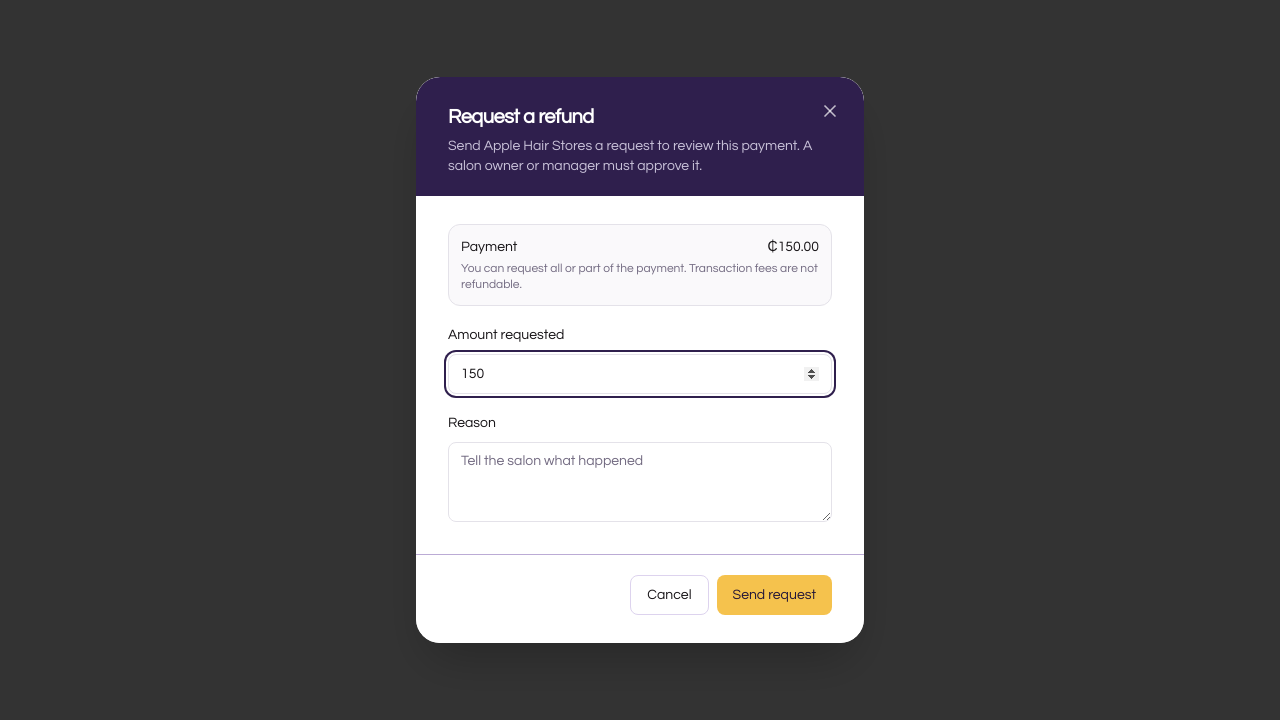
ClientRefundRequestDialog › lets a client request all or part of a payment without choosing the refund method
The image size is (1280, 720).
Expected: the heading "Request a refund" is shown, [448,107,594,127]
Expected: the text "salon owner or manager must approve" is shown, [448,139,812,173]
Replace the text in the number field labelled "Amount requested" with "75" at (640, 374), box [448,354,832,394]
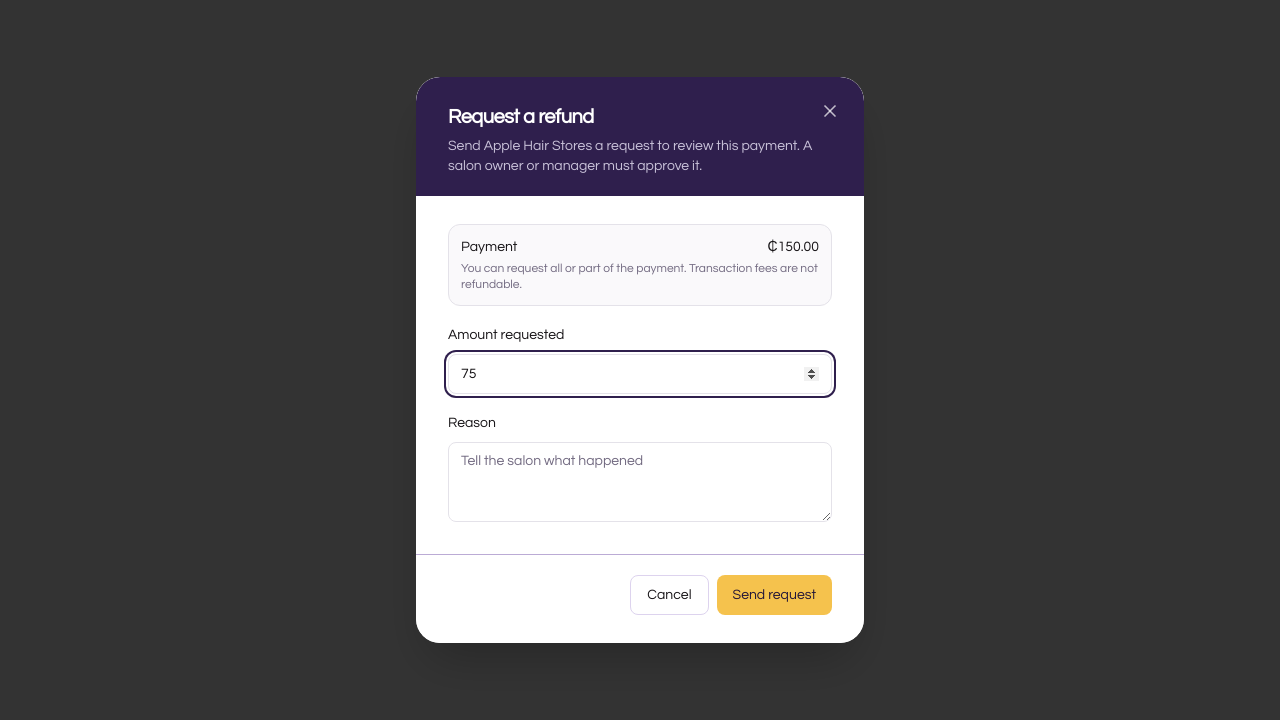
Type "The service was incomplete" into the text box labelled "Reason" at (640, 482), box [448,442,832,522]
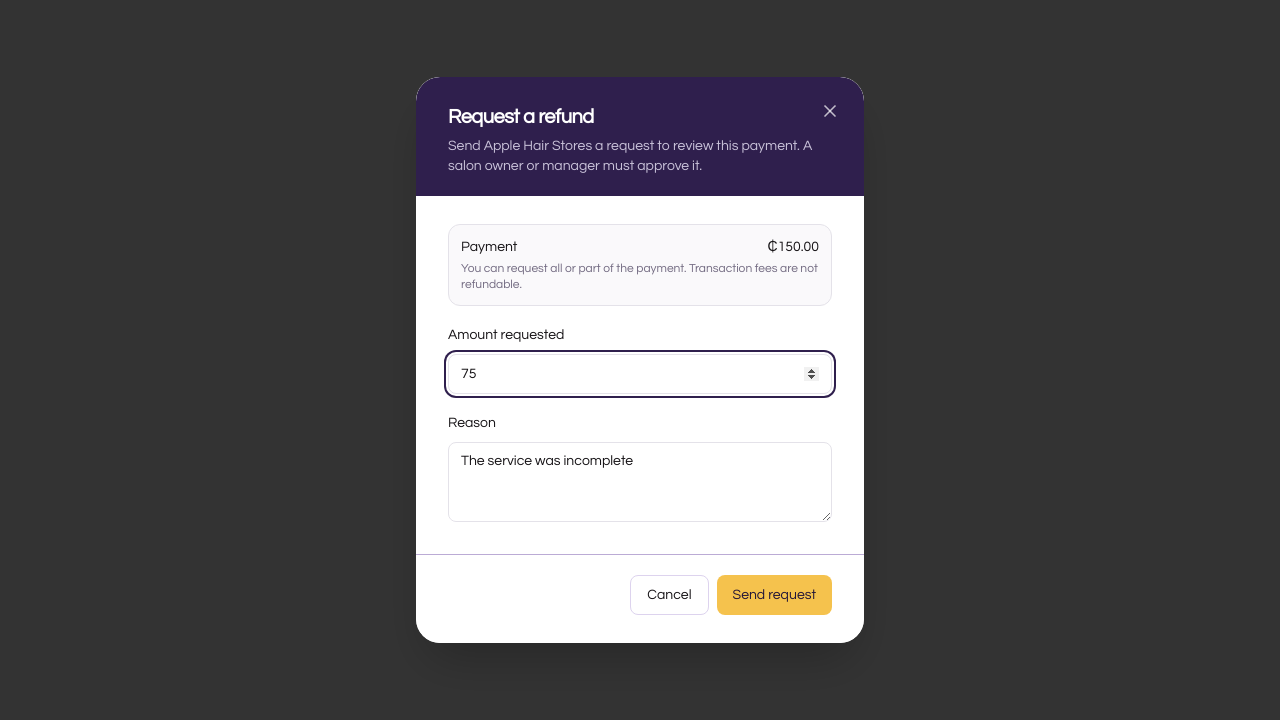
Click the button "Send request" at (774, 595), box [716,575,832,615]
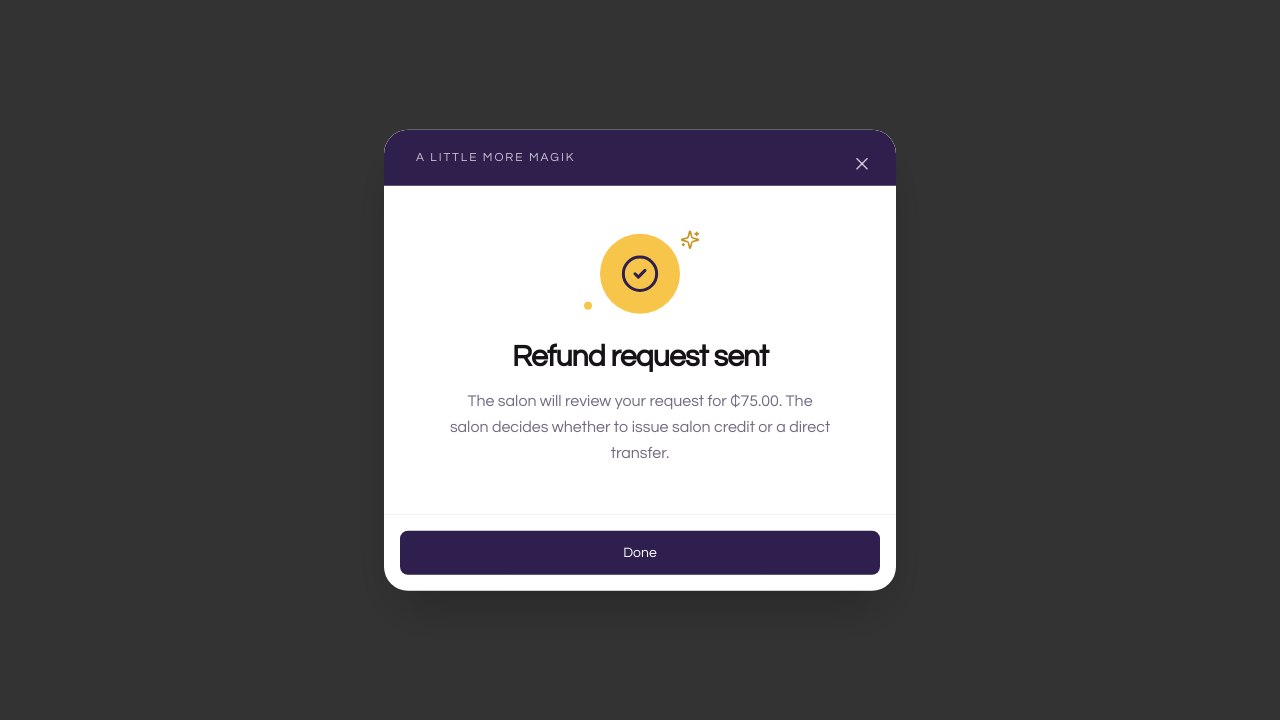
Now the heading "Refund request sent" is shown, box [512,341,768,372]
